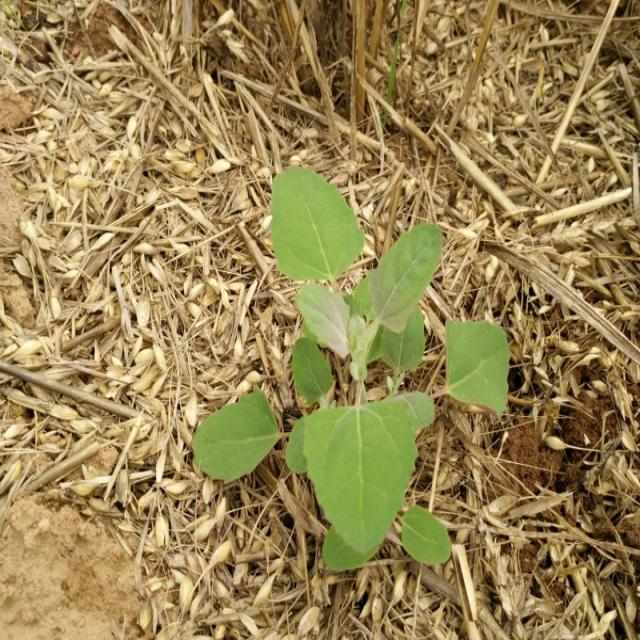ca: (272, 166, 509, 566)
